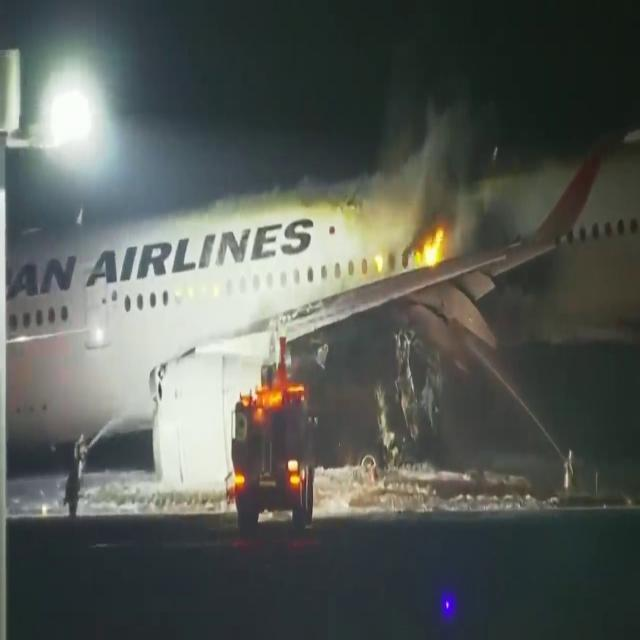Fire: (410, 224, 450, 274)
Smoke: (396, 90, 482, 226)
